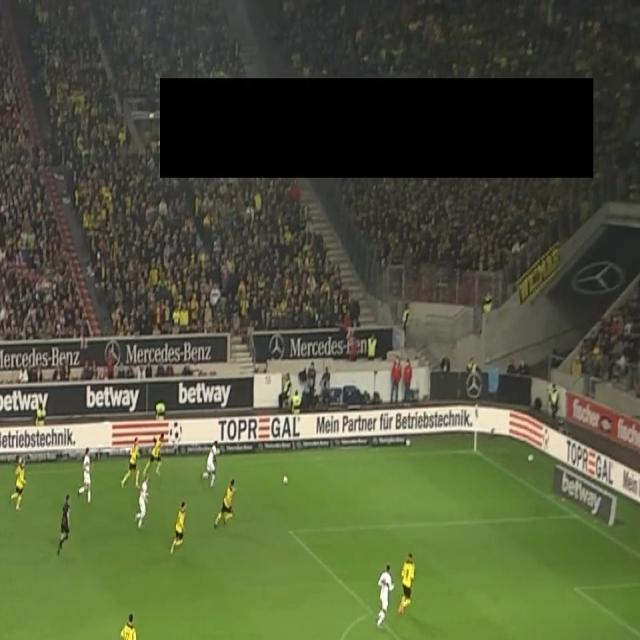ball: (282, 474, 289, 486)
